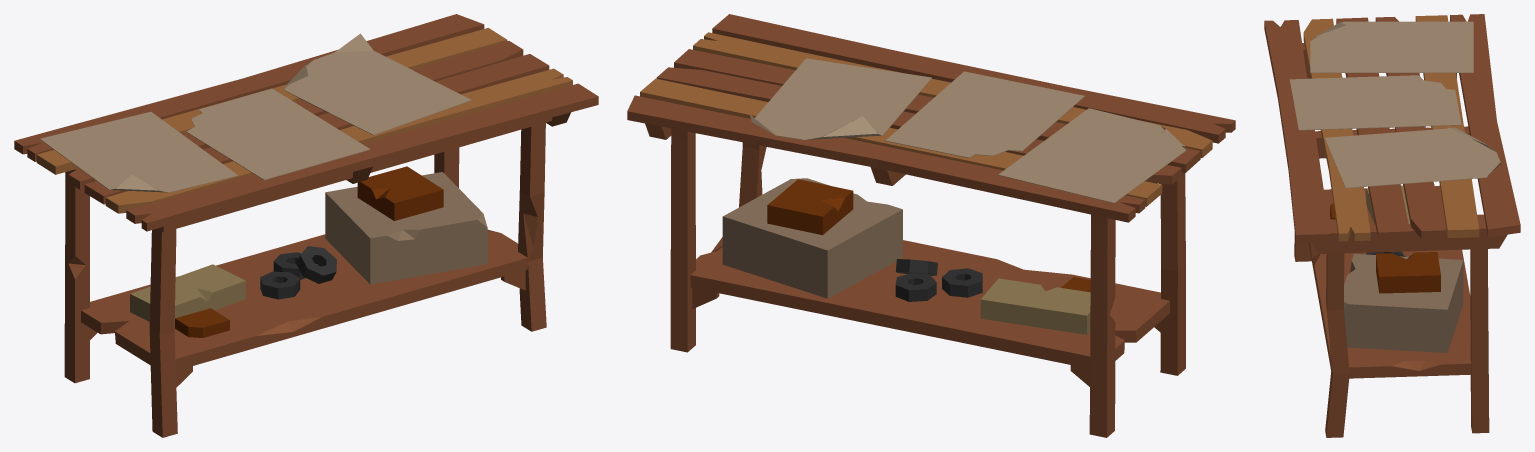
Rendered from LP_PostApoc_CraftingBench.fbx.
3 renders of one model, left to right at view 1: azimuth 30°, elevation 25°; view 2: azimuth 150°, elevation 25°; view 3: azimuth 270°, elevation 25°, orthographic. The views are drawn at different scales.
Parts seen in each view (by area): view 1: CraftingBench; view 2: CraftingBench; view 3: CraftingBench.
Part boxes in pixels (x1,y1,x2,y2): CraftingBench: (14,14,598,437); CraftingBench: (627,14,1235,437); CraftingBench: (1264,14,1520,437).
Bounding box in the file's own units: 206 × 101 × 101.
